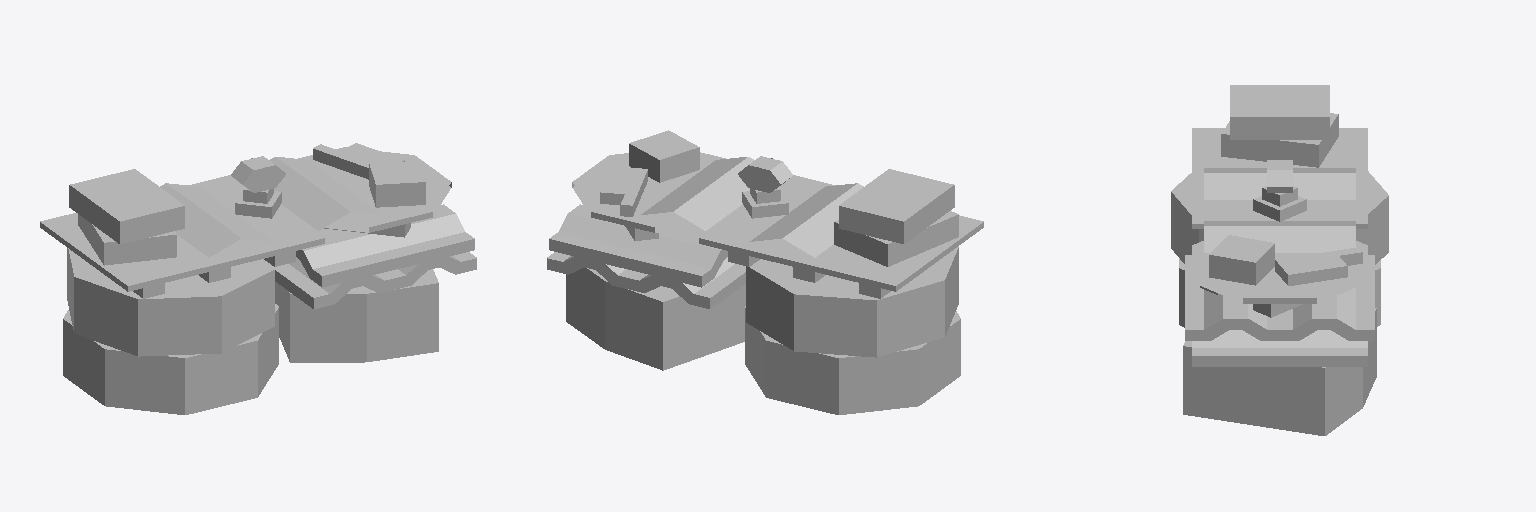
Rendered from intelligence_desk.obj.
The picture shows the model from 3 angles: view 1: azimuth 30°, elevation 25°; view 2: azimuth 150°, elevation 25°; view 3: azimuth 270°, elevation 25°; orthographic projection.
Parts seen in each view (by area): view 1: tyre2, tyre1, map0, crate, plate1, roadSign, atlas2, plate2, stopSign, compass, atlas1, receiver; view 2: tyre2, tyre1, map0, crate, plate1, atlas2, roadSign, stopSign, plate2, atlas1, compass, receiver; view 3: map0, crate, plate1, atlas2, plate2, roadSign, stopSign, tyre2, atlas1, compass, receiver, tyre1.
Part boxes in pixels (bbox=[...]): tyre2: bbox=[67, 248, 274, 356]; tyre1: bbox=[63, 304, 278, 414]; map0: bbox=[160, 156, 382, 257]; crate: bbox=[275, 269, 438, 362]; plate1: bbox=[296, 204, 474, 287]; roadSign: bbox=[40, 175, 324, 291]; atlas2: bbox=[69, 169, 184, 243]; plate2: bbox=[275, 252, 476, 308]; stopSign: bbox=[298, 147, 451, 232]; compass: bbox=[369, 161, 425, 207]; atlas1: bbox=[78, 214, 176, 265]; receiver: bbox=[313, 143, 404, 179]; tyre2: bbox=[746, 246, 958, 357]; tyre1: bbox=[745, 306, 960, 414]; map0: bbox=[641, 156, 863, 257]; crate: bbox=[566, 268, 745, 370]; plate1: bbox=[549, 204, 727, 287]; atlas2: bbox=[839, 169, 954, 243]; roadSign: bbox=[699, 175, 983, 291]; stopSign: bbox=[572, 152, 725, 232]; plate2: bbox=[547, 252, 745, 308]; atlas1: bbox=[834, 211, 958, 266]; compass: bbox=[629, 130, 699, 182]; receiver: bbox=[600, 166, 647, 216]; map0: bbox=[1204, 160, 1355, 252]; crate: bbox=[1183, 308, 1376, 435]; plate1: bbox=[1185, 255, 1374, 340]; atlas2: bbox=[1230, 85, 1329, 139]; plate2: bbox=[1192, 330, 1367, 366]; roadSign: bbox=[1192, 128, 1367, 228]; stopSign: bbox=[1192, 241, 1367, 303]; tyre2: bbox=[1171, 171, 1388, 264]; atlas1: bbox=[1221, 113, 1338, 167]; compass: bbox=[1209, 235, 1274, 285]; receiver: bbox=[1275, 247, 1362, 285]; tyre1: bbox=[1179, 258, 1380, 327].
Size of the model in its own units: 2.05 by 1.02 by 1.08.